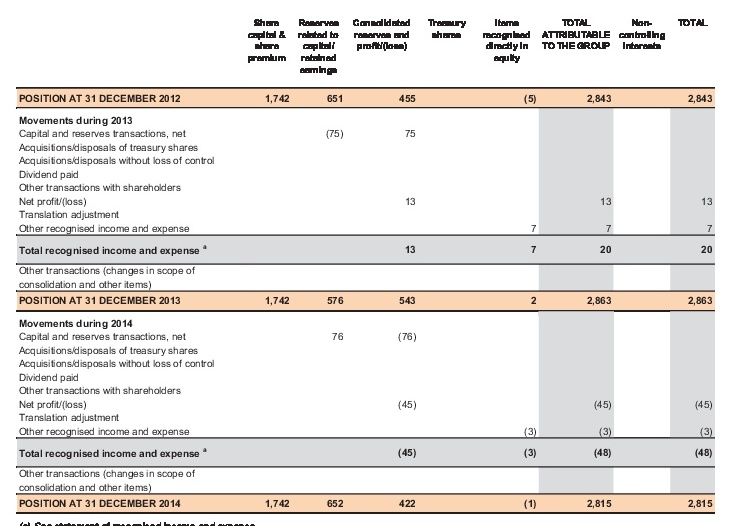table: (0, 0, 731, 526)
